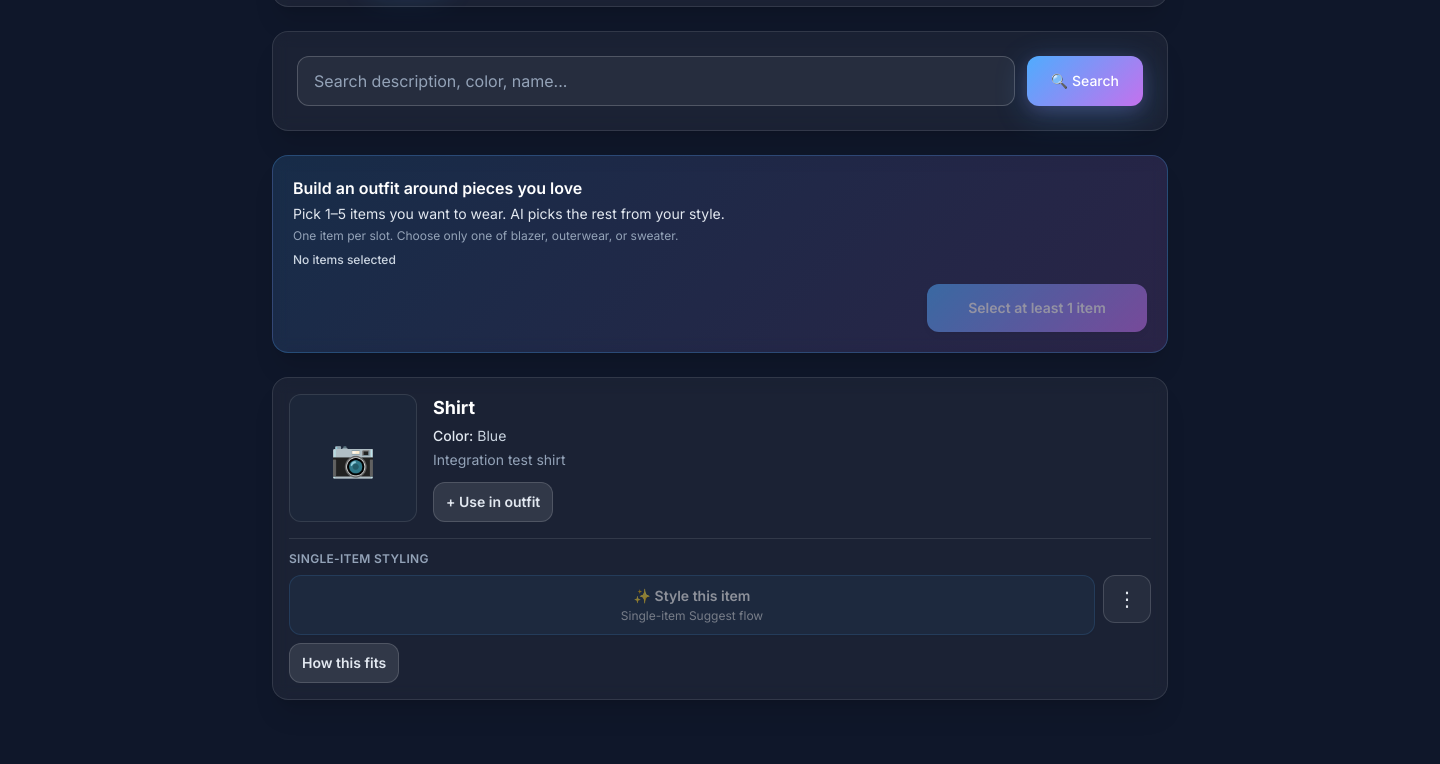
Scenario: WardrobeFitEvaluate integration › shows error and retry when evaluate-fit fails
This screenshot has width=1440, height=764.
(page scrolled)
Check: the text "Integration test shirt" is shown, box [433,451,566,468]
Click the button with test id "wardrobe-item-menu-1": click(1127, 599) [1103,575,1151,623]
(page scrolled)
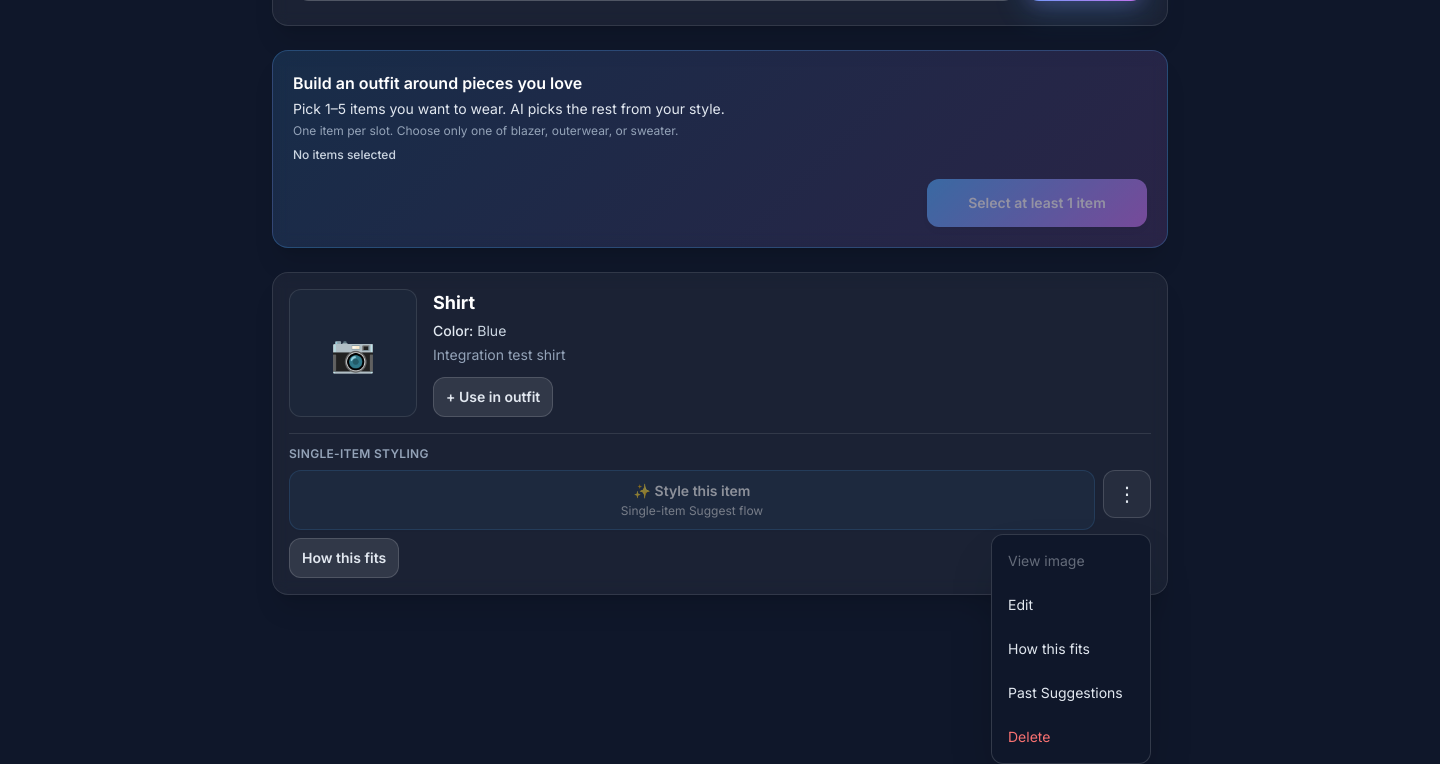
Click the menu item "How this fits": click(1071, 649) [992,627,1150,671]
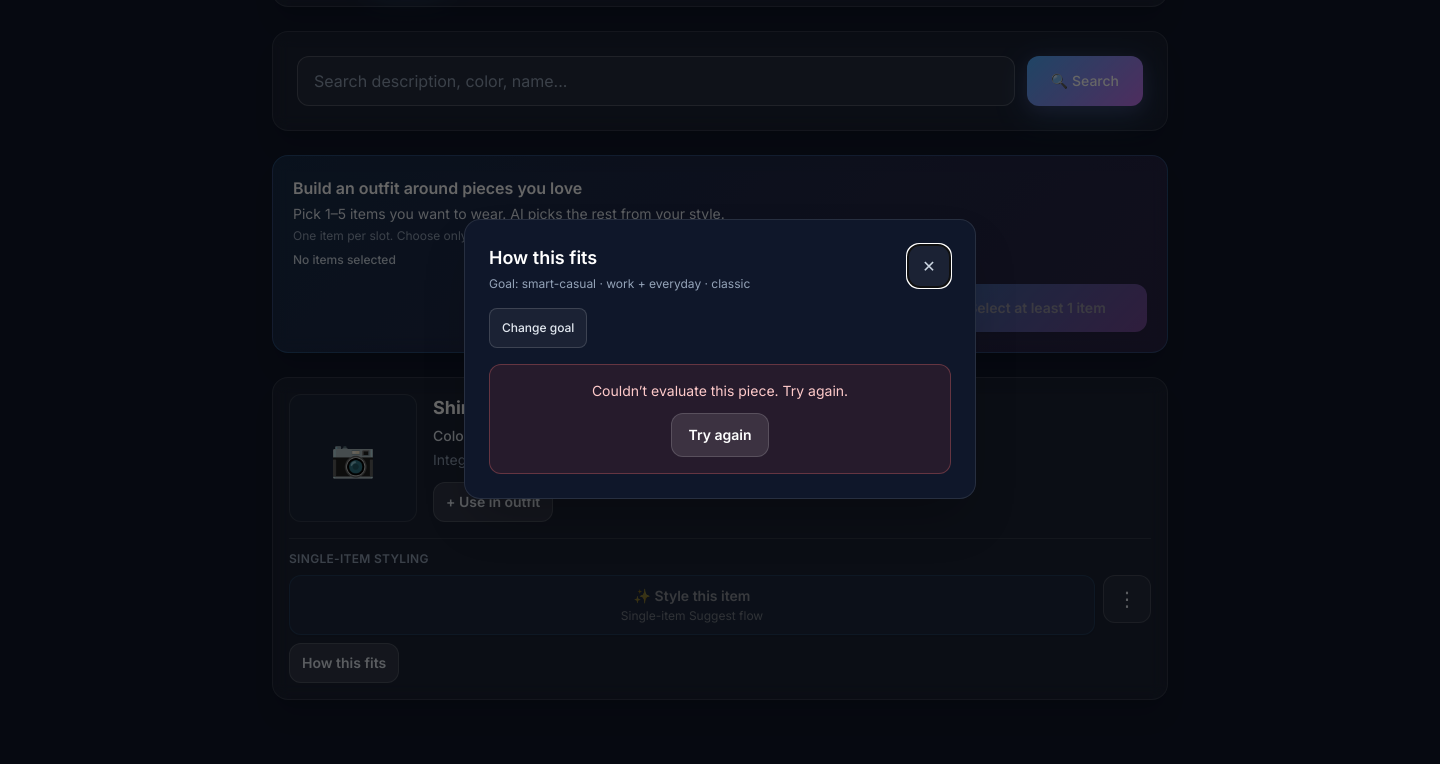
Check: the element with test id "wardrobe-fit-error" shows "Couldn’t evaluate this piece. Try again.", box [592,382,848,399]
Click the button with test id "wardrobe-fit-retry": click(720, 435) [672,413,769,457]
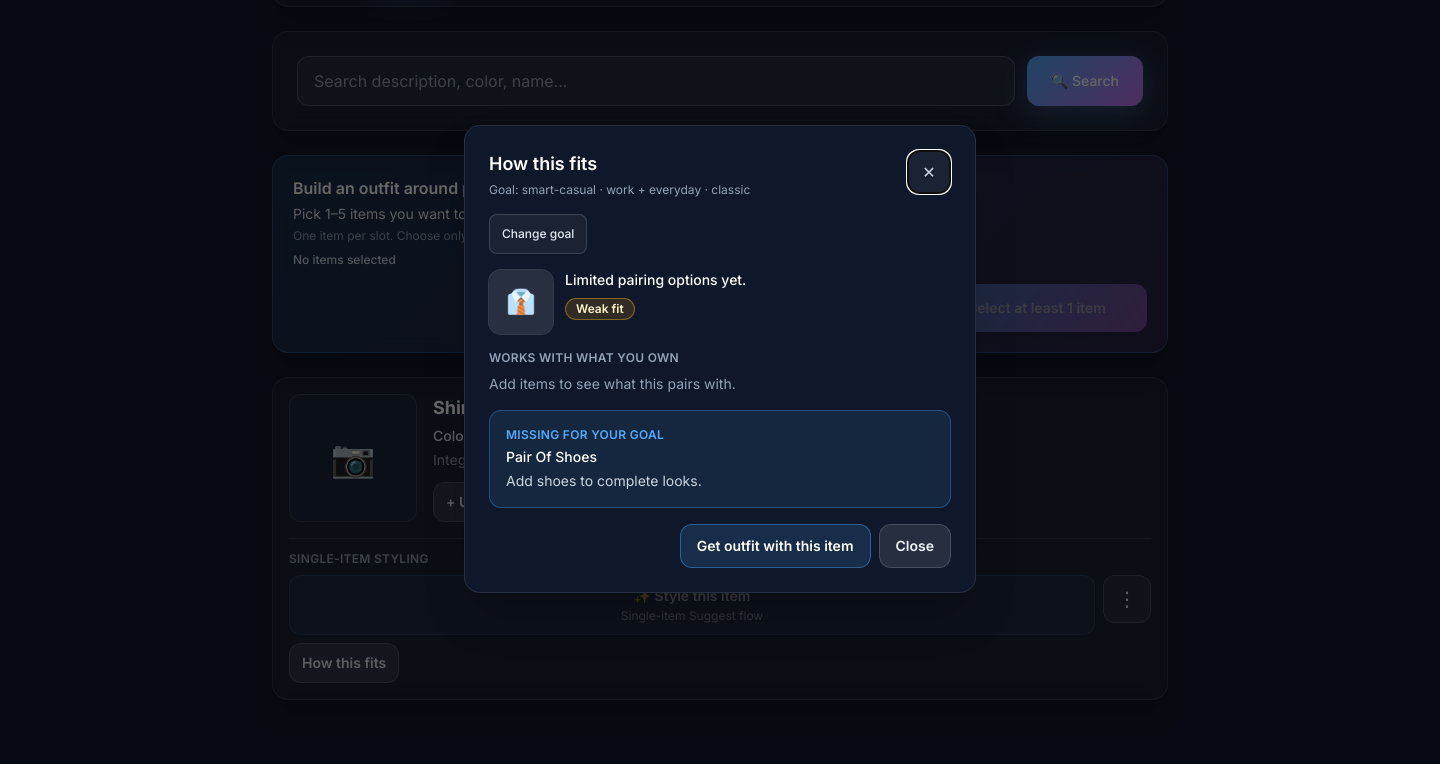
Check: the text with test id "wardrobe-fit-summary" shows "Limited pairing", box [565,271,746,288]
Check: the text with test id "wardrobe-fit-verdict" reads "Weak fit", box [576,301,624,316]
